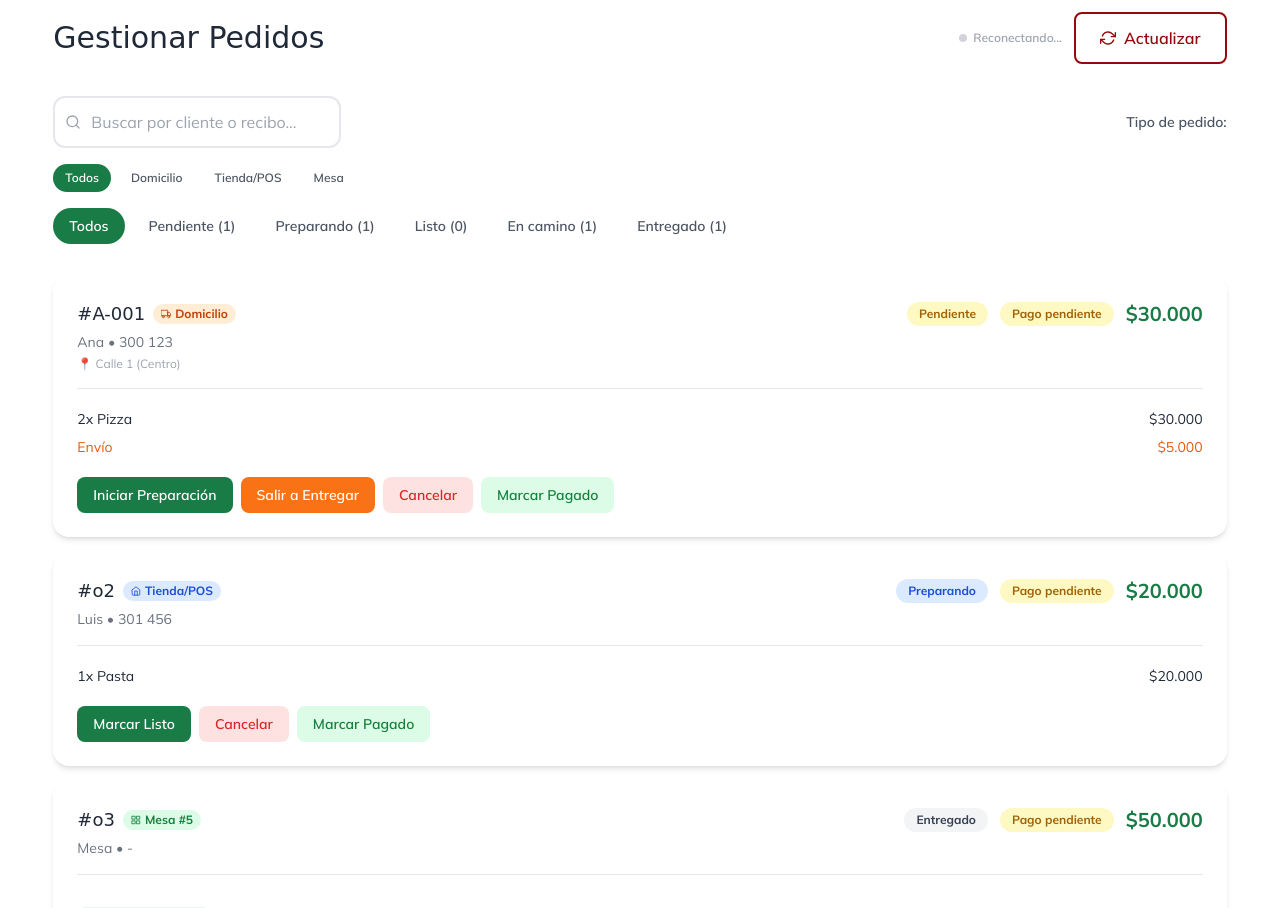
Test: AdminOrders › filters orders by status
Expected: the heading "#A-001" is shown, [77,300,145,328]
Click the button "Pendiente (1)": x=192, y=226 [133,208,252,244]
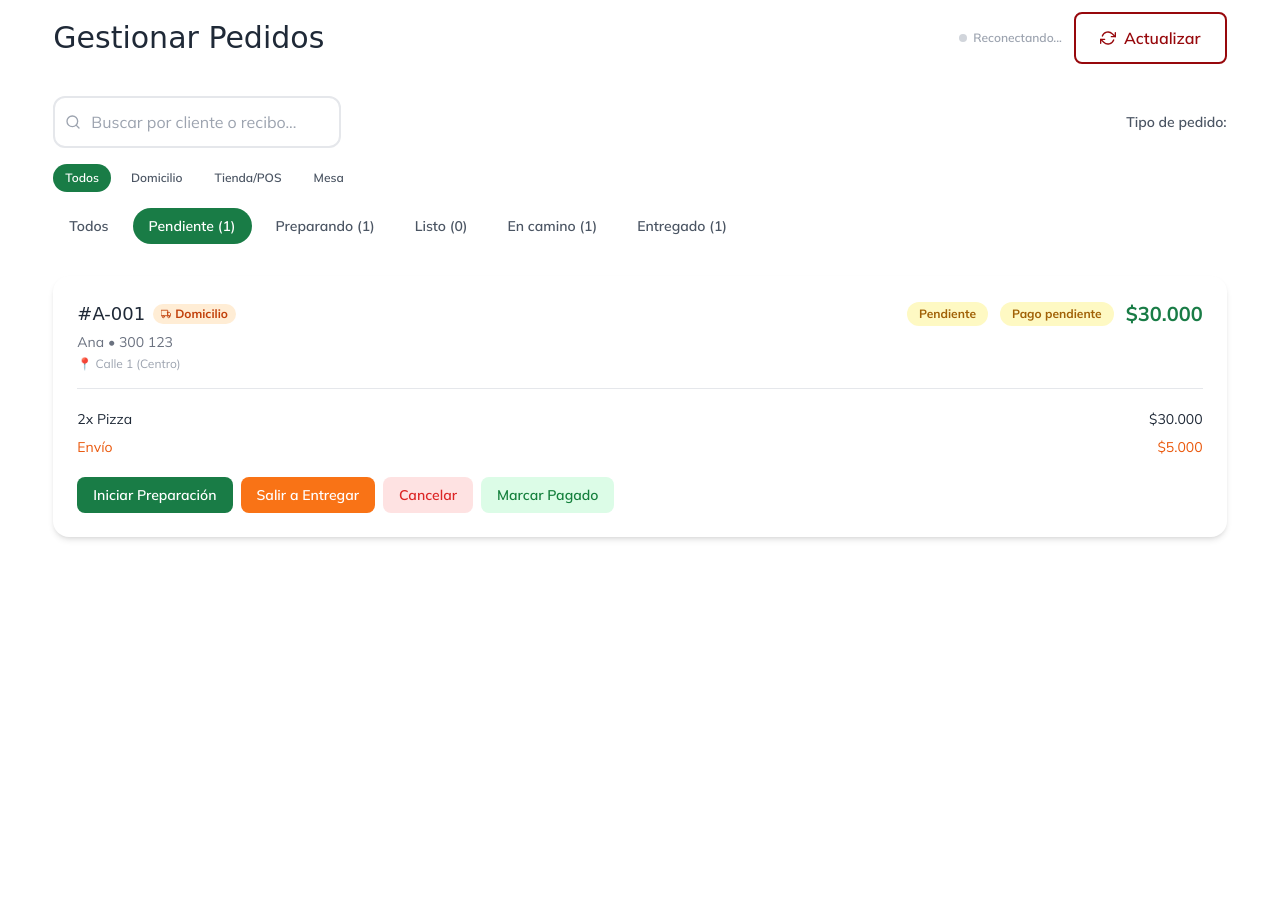
Expected: the heading "#A-001" is shown, [77,300,145,328]
Now the text "1x Pasta" is gone
Click the button "Entregado (1)": x=682, y=226 [621,208,743,244]
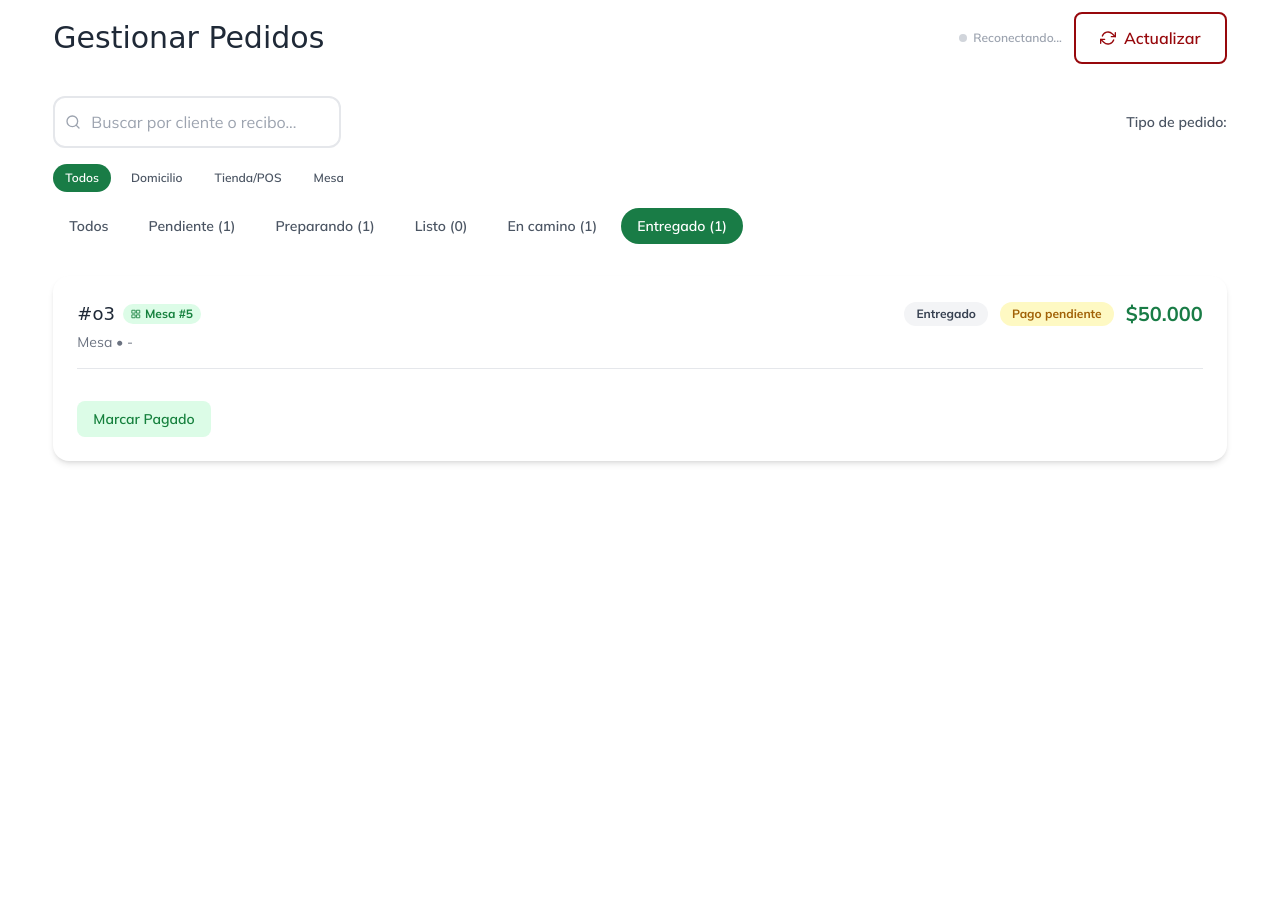
Now the heading "#A-001" is gone
Now the heading "#o3" is shown, box [77,300,115,328]
